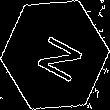N_NW: (27, 26, 83, 84)
